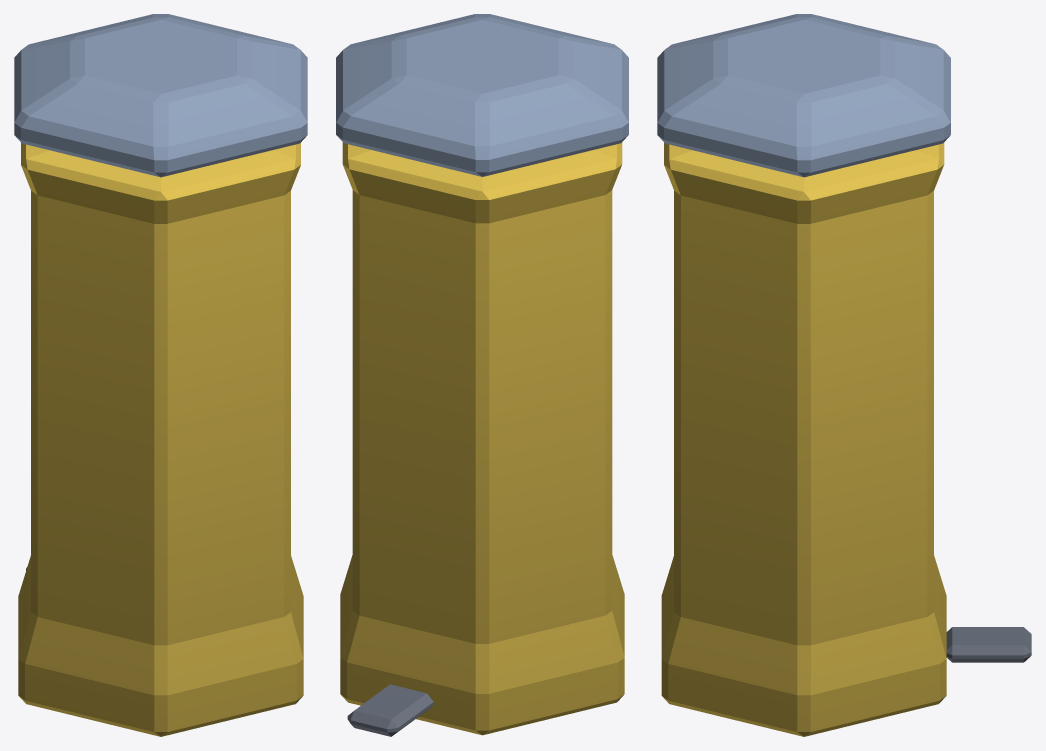
Rendered from biohazard_bin.glb.
3 views of the same model, side by side, from view 1: azimuth 30°, elevation 25°; view 2: azimuth 150°, elevation 25°; view 3: azimuth 270°, elevation 25° (orthographic).
Visible parts, largest first — view 1: biohazard_bin; view 2: biohazard_bin; view 3: biohazard_bin.
Boxes of the visible parts, left/top/right/bottom form: biohazard_bin: left=14, top=14, right=307, bottom=736; biohazard_bin: left=336, top=14, right=628, bottom=736; biohazard_bin: left=657, top=14, right=1031, bottom=736.
Bounding box in the file's own units: 0.342 × 0.7 × 0.3866.
1 material, 1 textured.
